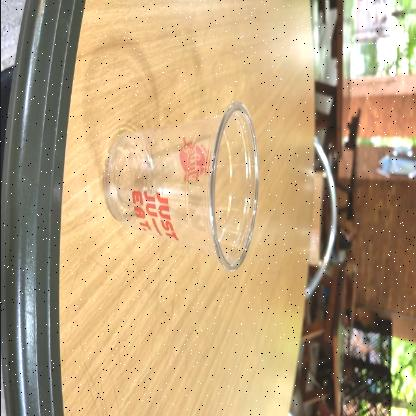Others: (97, 94, 263, 278)
